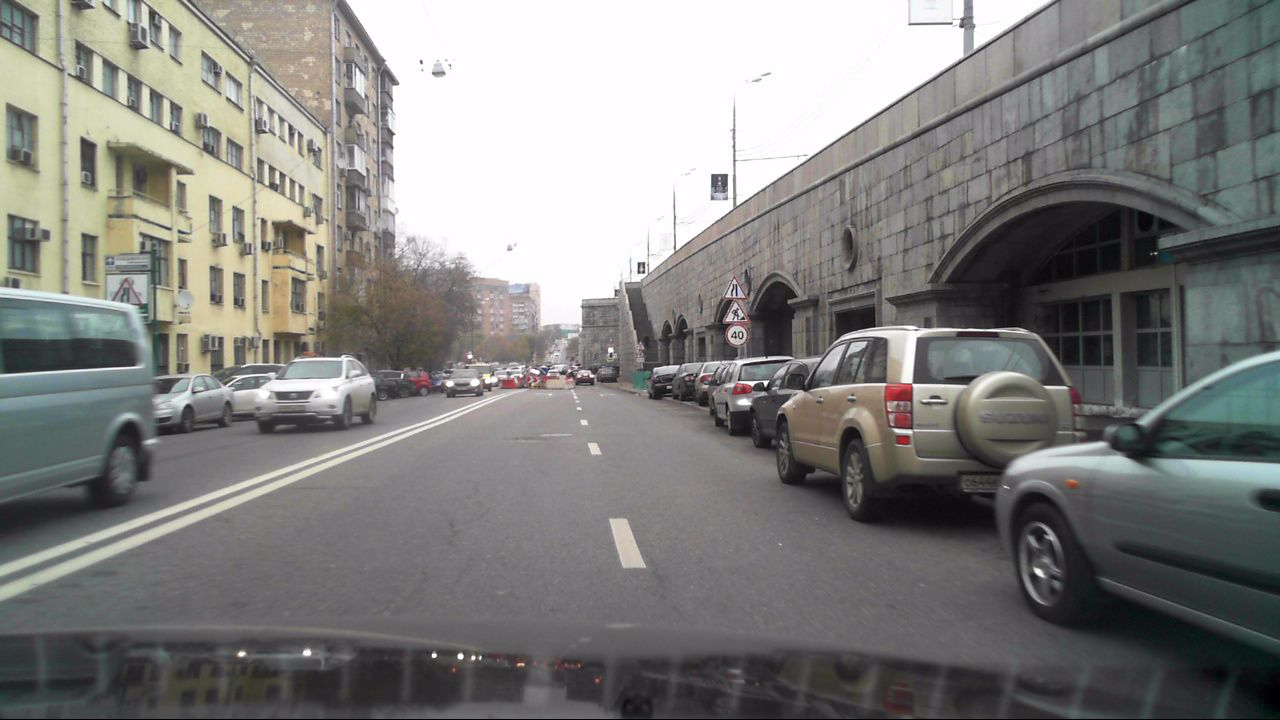speed_warning_40: (725, 324, 749, 347)
